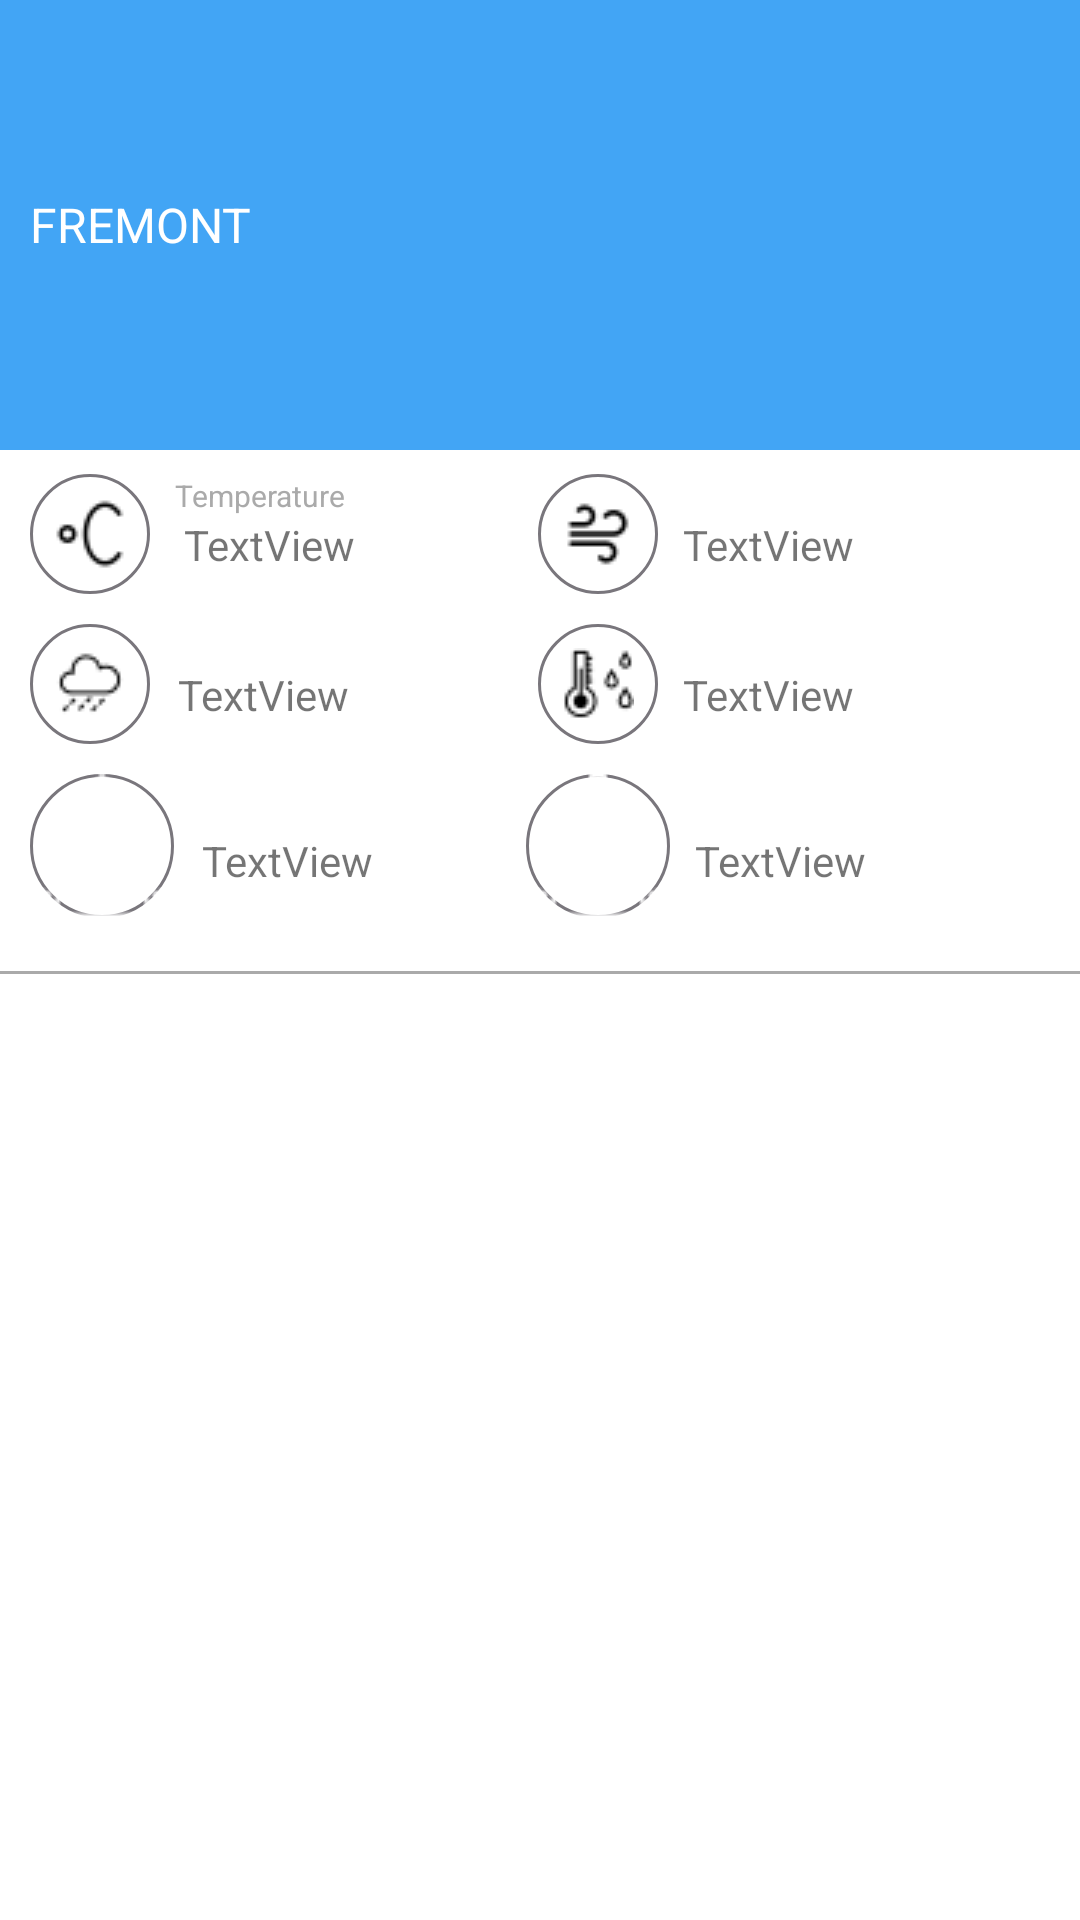

Icon bounding boxes for this 1080px x 1920px phone screenshot, format (x1, y1, x2, y2):
humidity: (538, 624, 658, 744)
rain: (30, 624, 150, 744)
wind: (538, 474, 658, 594)
